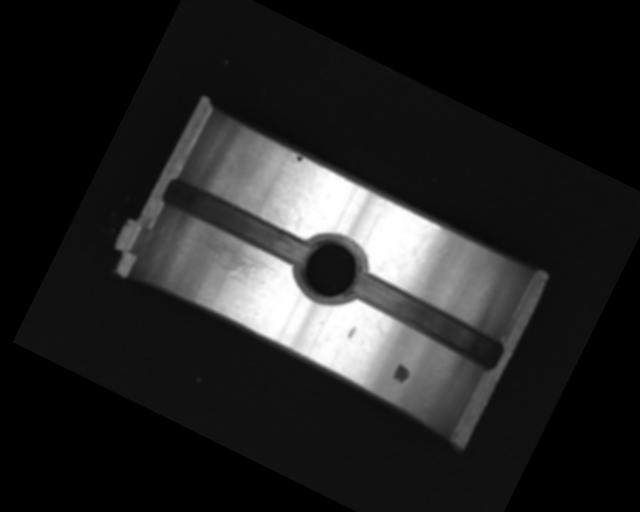blot: (390, 362, 413, 386), (290, 152, 304, 166)
bruise: (346, 325, 358, 340)
gap: (343, 269, 507, 374), (161, 175, 312, 266)
hole: (286, 223, 373, 312)
nick: (395, 238, 429, 289)
scratch: (179, 223, 283, 291)
